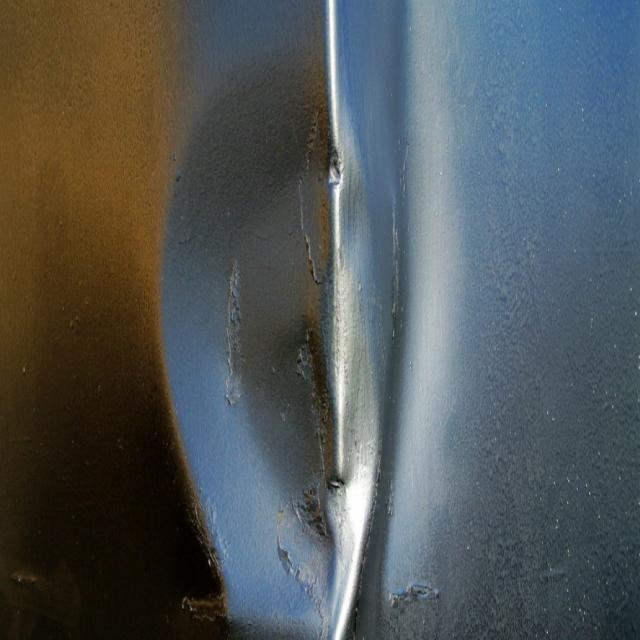dents: (160, 63, 391, 622)
